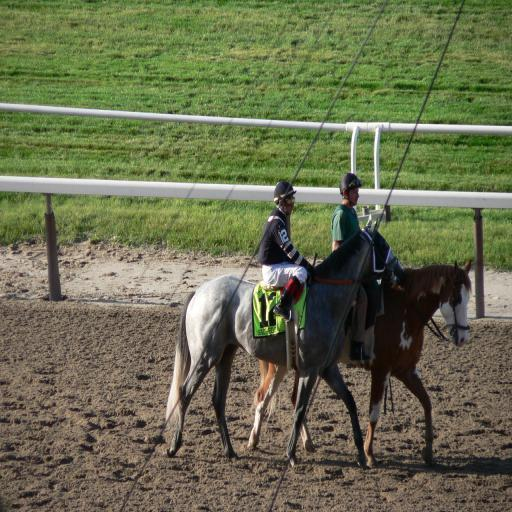horse: (166, 212, 412, 456), (246, 258, 474, 468)
